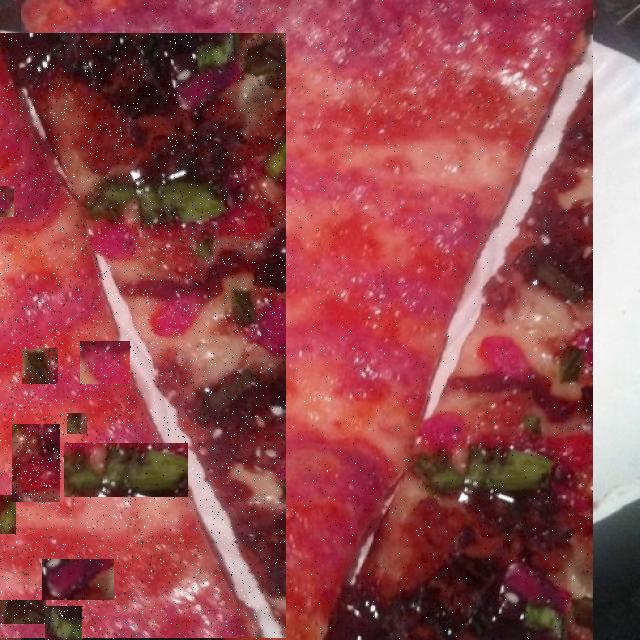Basil: (64, 444, 188, 497), (22, 350, 58, 386), (46, 607, 84, 640), (0, 601, 46, 624), (0, 496, 16, 534), (67, 414, 87, 434)
Pizza: (21, 0, 593, 640), (0, 34, 286, 639)
Red Pepper: (12, 425, 60, 502), (42, 560, 114, 600), (80, 342, 130, 384), (0, 317, 35, 373), (153, 419, 195, 443), (0, 187, 14, 217)
